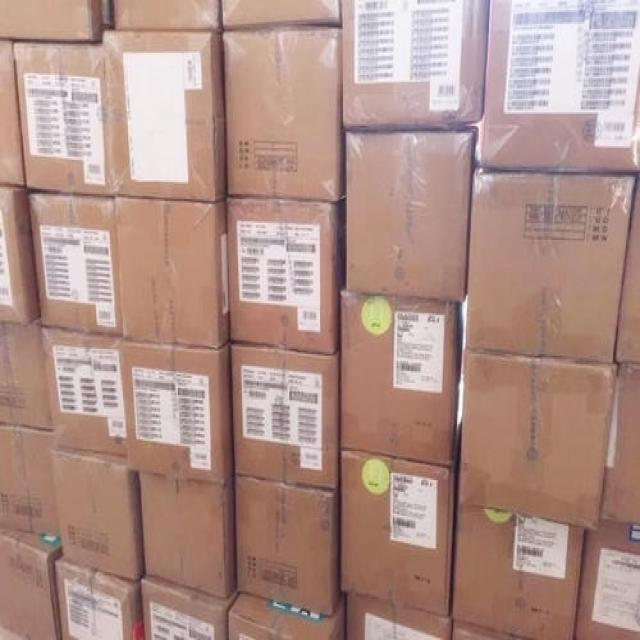box: (467, 168, 637, 365), (459, 348, 617, 531), (474, 0, 638, 172), (346, 131, 474, 303), (223, 27, 345, 203), (340, 288, 459, 468), (103, 31, 226, 202), (340, 0, 489, 130), (340, 449, 454, 616), (226, 195, 340, 355), (452, 503, 585, 638), (115, 196, 230, 348), (122, 339, 235, 485), (231, 341, 340, 489), (12, 40, 113, 196), (235, 474, 339, 616), (29, 192, 122, 336), (138, 471, 236, 600), (51, 449, 144, 580), (40, 327, 126, 456), (573, 520, 638, 638), (56, 556, 142, 638), (0, 425, 60, 536), (1, 529, 62, 638), (599, 362, 639, 524), (141, 575, 239, 638), (0, 317, 52, 430), (227, 592, 345, 638), (0, 186, 39, 325), (346, 593, 452, 638), (615, 174, 639, 363), (0, 0, 101, 41), (0, 40, 26, 185), (113, 0, 221, 31), (221, 0, 340, 28)
